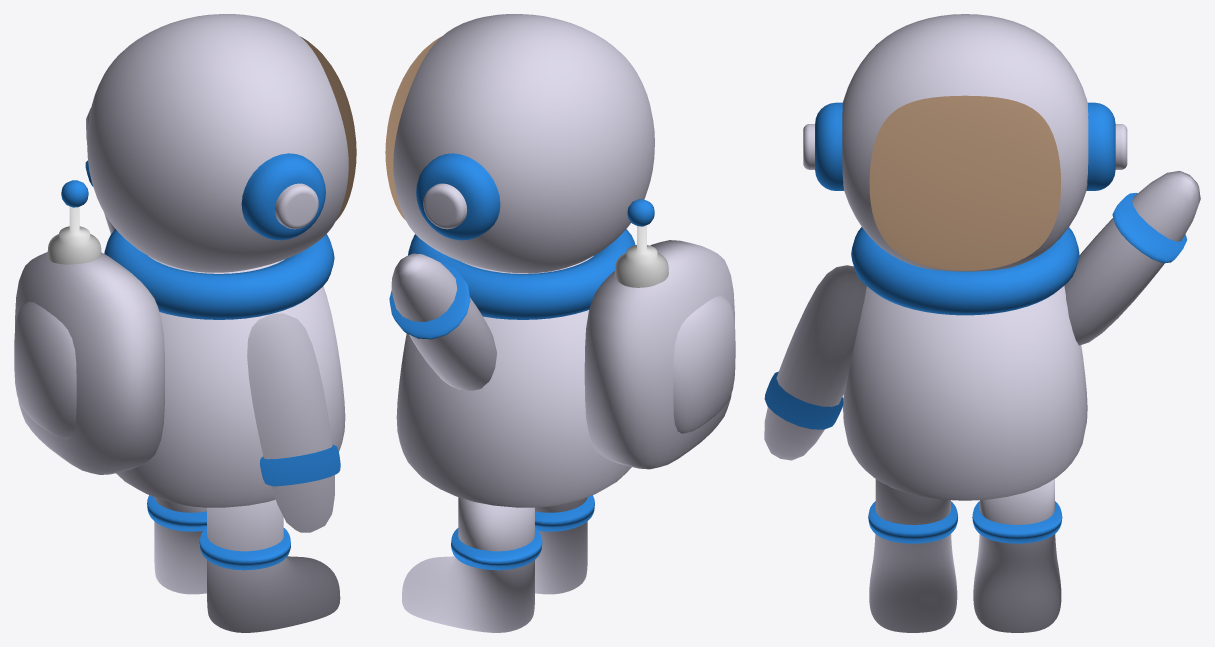
The model's file is astronout.glb.
3 renders of one model, left to right at view 1: azimuth 30°, elevation 25°; view 2: azimuth 150°, elevation 25°; view 3: azimuth 270°, elevation 25°, orthographic.
Visible parts, largest first — view 1: Head, Body, Bag, Legs, Hands.001, Torus, Cube.008, Cylinder.001, Cube.003, Cube.012, Cylinder, Glass (+2 smaller); view 2: Head, Body, Bag, Legs, Hands, Torus, Cube.008, Cylinder.001, Cube.003, Cylinder, Cube.005, Glass (+2 smaller); view 3: Body, Glass, Head, Legs, Torus, Hands, Hands.001, Cylinder.001, Cube.003, Cube.005, Cube.012, Cylinder.002.
Boxes of the visible parts, x1,y1,x2,y2 form: Head: [87, 14, 348, 272]; Body: [116, 255, 345, 507]; Bag: [15, 252, 164, 474]; Legs: [154, 497, 340, 632]; Hands.001: [247, 313, 334, 532]; Torus: [104, 229, 334, 319]; Cube.008: [14, 301, 76, 439]; Cylinder.001: [241, 153, 325, 240]; Cube.003: [147, 495, 290, 570]; Cube.012: [260, 444, 340, 486]; Cylinder: [47, 206, 101, 264]; Glass: [300, 36, 356, 220]; Head: [393, 14, 654, 273]; Body: [396, 256, 631, 507]; Bag: [584, 240, 734, 469]; Legs: [402, 497, 587, 632]; Hands: [391, 253, 496, 390]; Torus: [408, 229, 635, 319]; Cube.008: [673, 296, 735, 433]; Cylinder.001: [416, 153, 500, 240]; Cube.003: [451, 495, 594, 570]; Cylinder: [615, 225, 668, 287]; Cube.005: [389, 261, 470, 339]; Glass: [385, 36, 441, 219]; Body: [843, 286, 1087, 500]; Glass: [869, 95, 1060, 270]; Head: [842, 14, 1088, 271]; Legs: [869, 479, 1061, 632]; Torus: [851, 227, 1079, 315]; Hands: [1064, 171, 1200, 345]; Hands.001: [764, 265, 866, 460]; Cylinder.001: [815, 102, 1115, 190]; Cube.003: [868, 501, 1062, 543]; Cube.005: [1112, 193, 1187, 263]; Cube.012: [764, 371, 843, 429]; Cylinder.002: [803, 124, 1127, 169].
Size of the model in its own units: 1.97 by 3.56 by 2.48.
